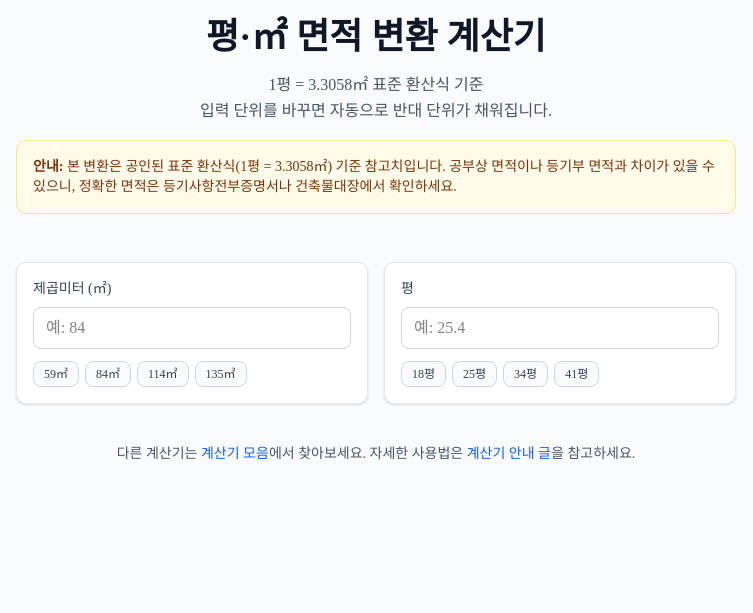
Scenario: /tools/area-converter 페이지 › ㎡ 입력 → 평이 자동 계산 (84 → 25.4)
Type "84" into the number field named "제곱미터 입력" at (192, 328), box [33,307,351,349]
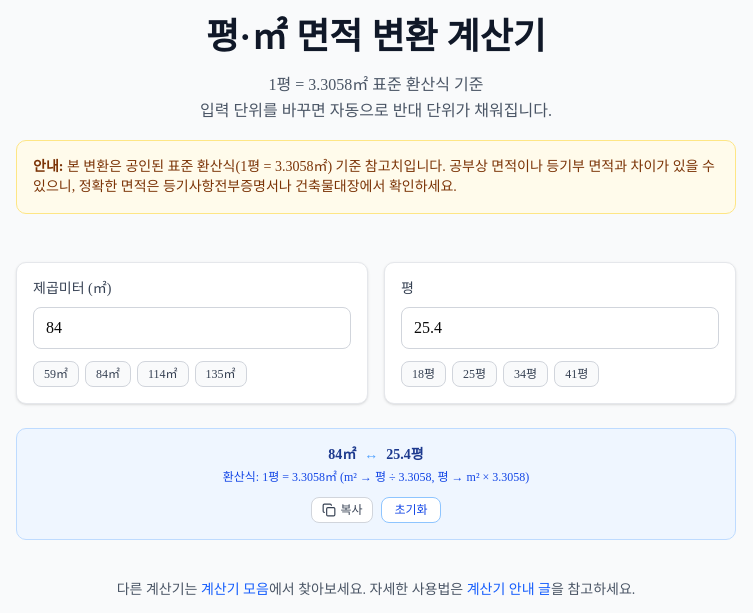
Result: the number field named "평 입력" holds "25.4" at [401,307,719,349]
